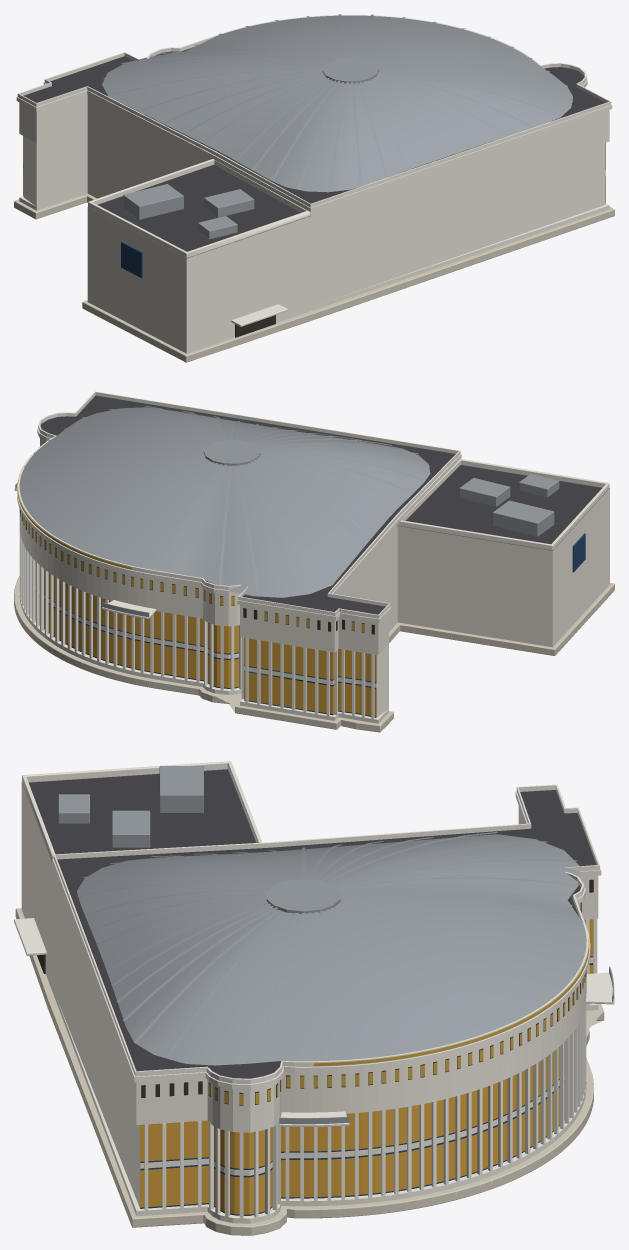
Rendered from davies-symphony-hall.optimized.glb.
3 views of the same model, one above another, from view 1: azimuth 30°, elevation 25°; view 2: azimuth 150°, elevation 25°; view 3: azimuth 270°, elevation 25° (orthographic). The views are drawn at different scales.
Parts seen in each view (by area): view 1: grp_Toy_steel, hall_body, boh_block, grp_Toy_trim, plinth, boh_parapet, franklin_window; view 2: grp_Toy_steel, boh_block, hall_body, grp_Toy_mustard_Glow, grp_Toy_white, grp_Toy_trim, plinth, boh_parapet, grp_Toy_gold_Glow, grp_Toy_ink; view 3: grp_Toy_steel, hall_body, grp_Toy_mustard_Glow, grp_Toy_white, boh_block, grp_Toy_trim, plinth, grp_Toy_gold_Glow, boh_parapet, grp_Toy_ink.
Part boxes in pixels (x1,y1,x2,y2): grp_Toy_steel: (102, 14, 572, 239); hall_body: (19, 47, 609, 310); boh_block: (87, 164, 310, 353); grp_Toy_trim: (16, 15, 612, 326); plinth: (14, 193, 614, 362); boh_parapet: (88, 159, 310, 258); franklin_window: (121, 242, 142, 278); grp_Toy_steel: (15, 406, 559, 617); boh_block: (397, 465, 609, 647); hall_body: (19, 395, 455, 723); grp_Toy_mustard_Glow: (35, 561, 376, 716); grp_Toy_white: (19, 530, 374, 718); grp_Toy_trim: (14, 391, 461, 622); plinth: (14, 576, 614, 732); boh_parapet: (397, 459, 609, 550); grp_Toy_gold_Glow: (17, 439, 374, 633); grp_Toy_ink: (19, 438, 374, 634); grp_Toy_steel: (58, 766, 613, 1124); hall_body: (55, 790, 598, 1223); grp_Toy_mustard_Glow: (140, 919, 593, 1214); grp_Toy_white: (144, 919, 597, 1218); boh_block: (21, 769, 256, 998); grp_Toy_trim: (14, 784, 614, 1126); plinth: (15, 908, 604, 1235); grp_Toy_gold_Glow: (141, 880, 593, 1105); boh_parapet: (22, 761, 262, 861); grp_Toy_ink: (37, 879, 593, 1105).
Size of the model in its own units: 125 by 35 by 95.04.
